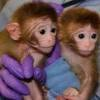monkey: (5, 3, 58, 90), (50, 1, 100, 91)
